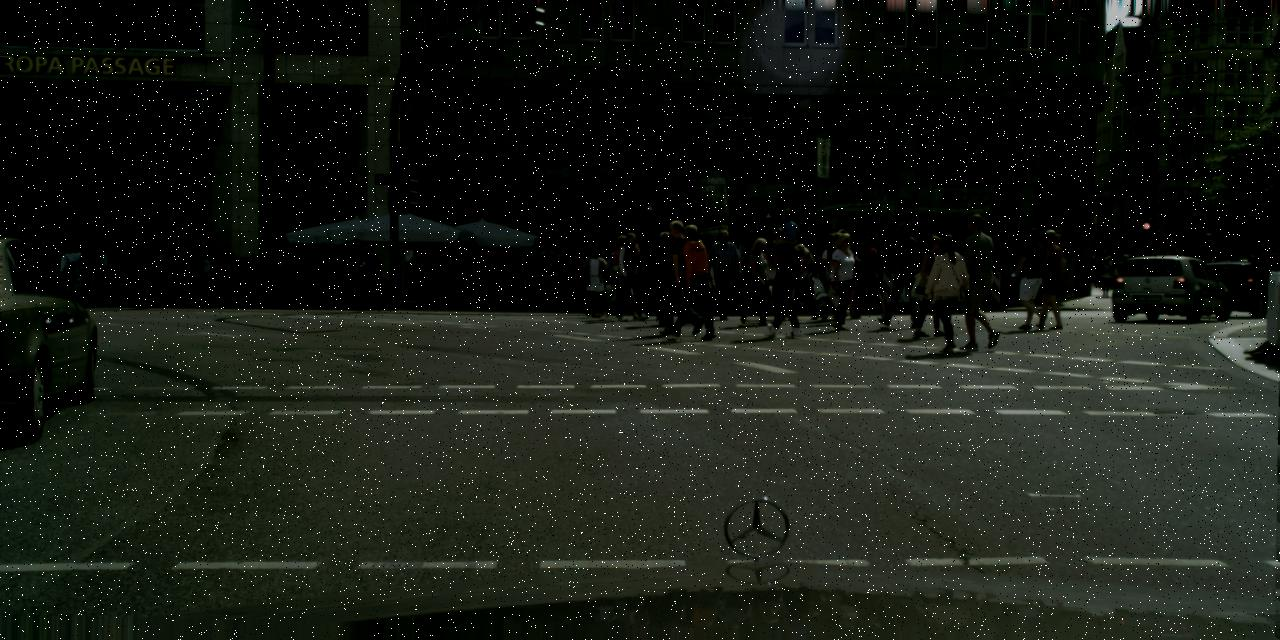ped: (951, 214, 1007, 350), (925, 233, 973, 351), (656, 220, 703, 334), (668, 224, 713, 337), (766, 208, 803, 340), (881, 222, 924, 328), (912, 235, 954, 336), (1028, 230, 1069, 330), (1014, 227, 1054, 329), (822, 230, 862, 330), (651, 233, 688, 325), (705, 230, 742, 320), (827, 228, 863, 318), (614, 232, 650, 321), (645, 231, 681, 320), (814, 232, 850, 321), (738, 237, 774, 325), (821, 230, 856, 320), (606, 234, 640, 320), (853, 236, 886, 318), (678, 243, 711, 324), (600, 236, 632, 315), (786, 242, 817, 318), (341, 238, 370, 308), (580, 246, 608, 316), (309, 242, 336, 308), (359, 245, 384, 307), (277, 246, 302, 306), (92, 241, 116, 303), (264, 243, 288, 305), (212, 245, 236, 304), (212, 246, 236, 304), (58, 242, 86, 290), (198, 246, 220, 302), (158, 252, 178, 304), (312, 253, 332, 303), (166, 248, 183, 293), (129, 247, 146, 291), (30, 242, 47, 284), (46, 244, 62, 285), (178, 246, 194, 287), (119, 243, 135, 283), (500, 256, 516, 296), (1098, 257, 1114, 297), (113, 243, 129, 282), (105, 241, 121, 280), (54, 242, 70, 280), (83, 243, 98, 281), (138, 244, 152, 278), (154, 248, 167, 279), (1092, 256, 1104, 288), (146, 247, 158, 278), (405, 262, 417, 292), (1103, 256, 1115, 286), (1118, 256, 1126, 278), (83, 296, 88, 300)
